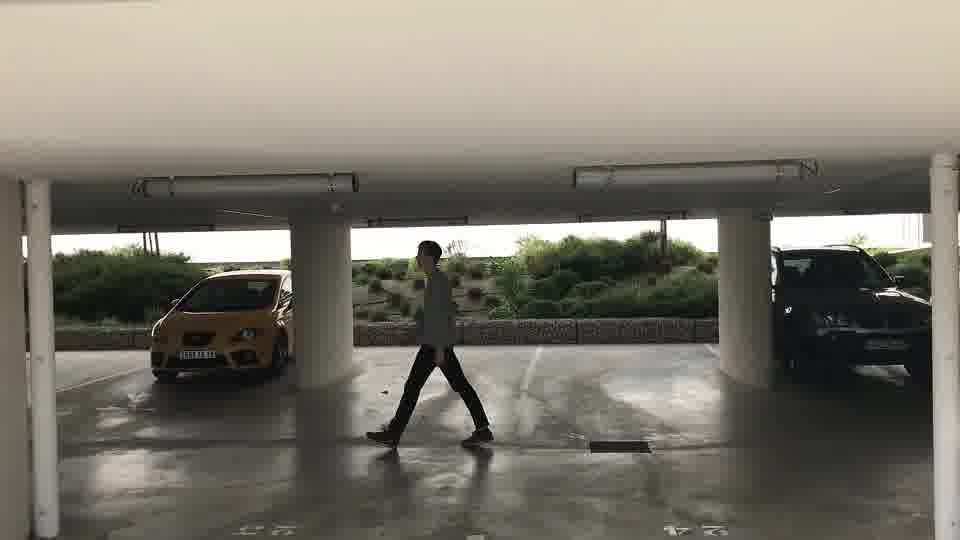jugador: (363, 234, 495, 455)
